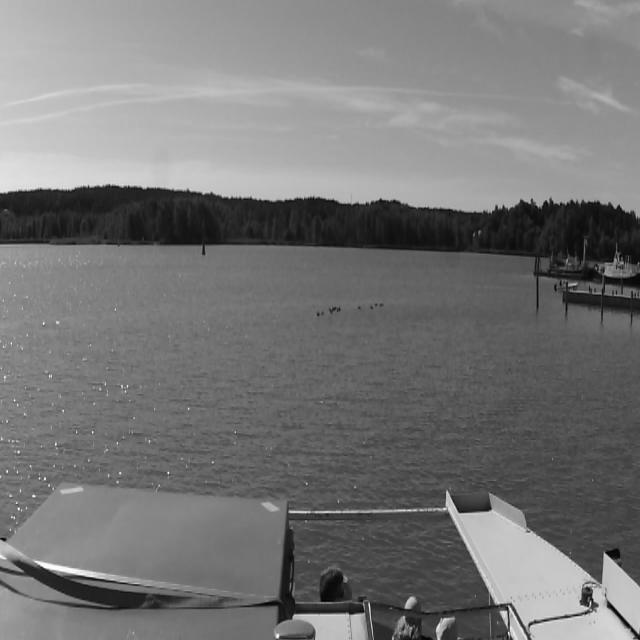buoy: (202, 240, 205, 254)
ship: (544, 242, 588, 276), (600, 252, 635, 286)
